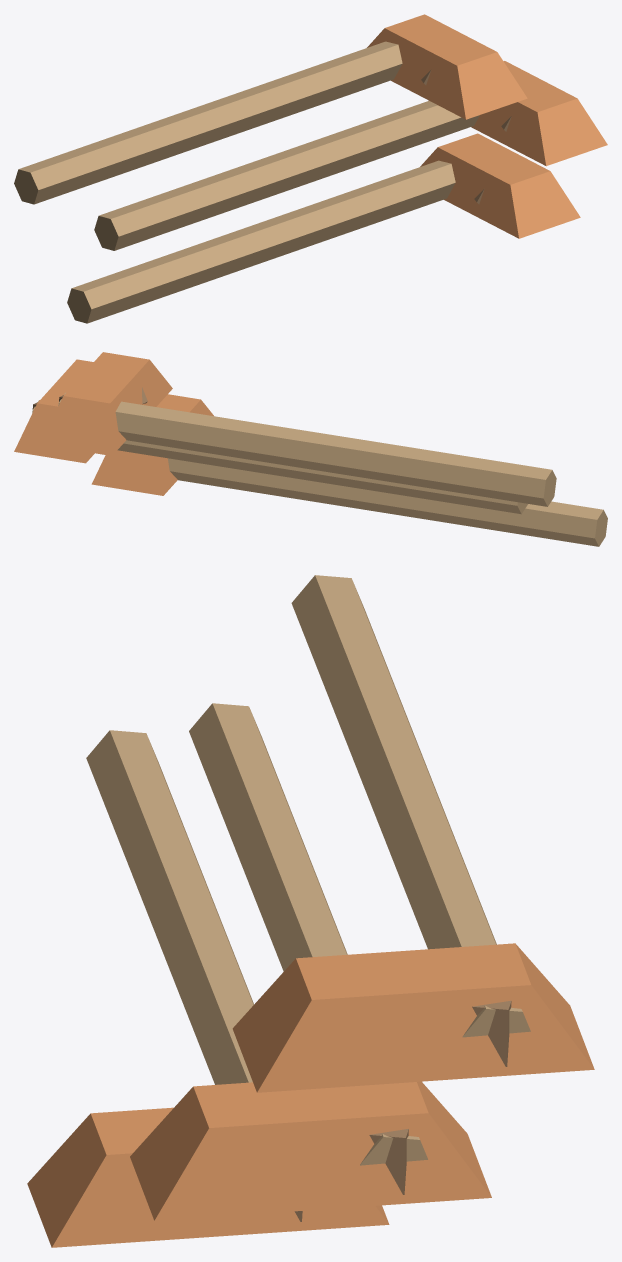
File: item_082_copper_axe_m.glb
The picture shows the model from 3 angles, top to bottom: view 1: azimuth 30°, elevation 25°; view 2: azimuth 150°, elevation 25°; view 3: azimuth 270°, elevation 25°; orthographic projection. The views are drawn at different scales.
Visible parts, largest first — view 1: item_082_copper_axe_m; view 2: item_082_copper_axe_m; view 3: item_082_copper_axe_m.
Part boxes in pixels (x1,y1,x2,y2): item_082_copper_axe_m: (14, 14, 607, 323); item_082_copper_axe_m: (14, 352, 607, 546); item_082_copper_axe_m: (27, 575, 594, 1247).
Bounding box in the file's own units: 0.7039 × 0.1594 × 0.3318.
